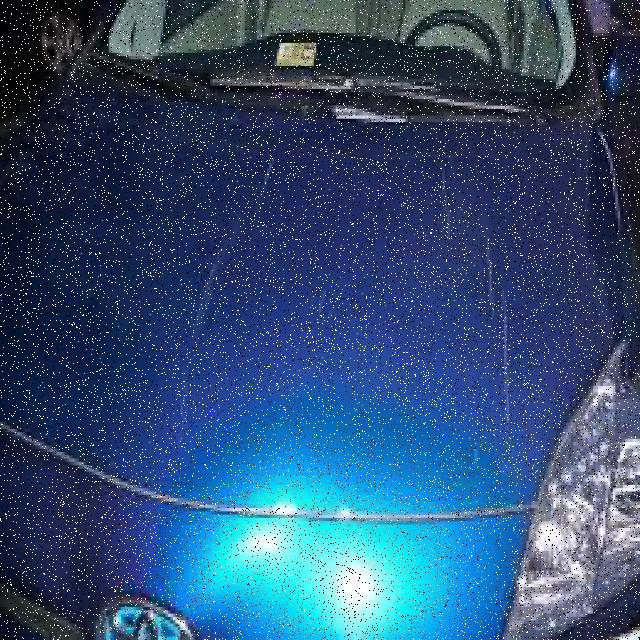headlight: (0, 79, 618, 587)
